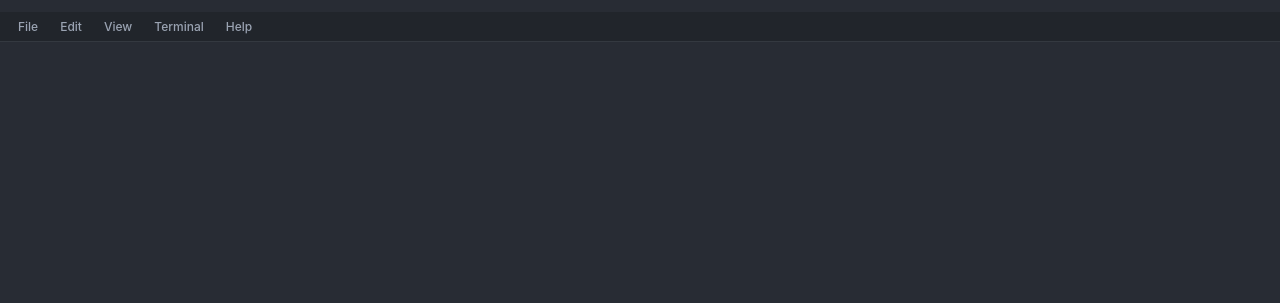
Test: MenuBar › clicking File title opens a dropdown
Click the menu item with class "menu-bar-title" showing "File" at (28, 26), box [8,14,48,40]
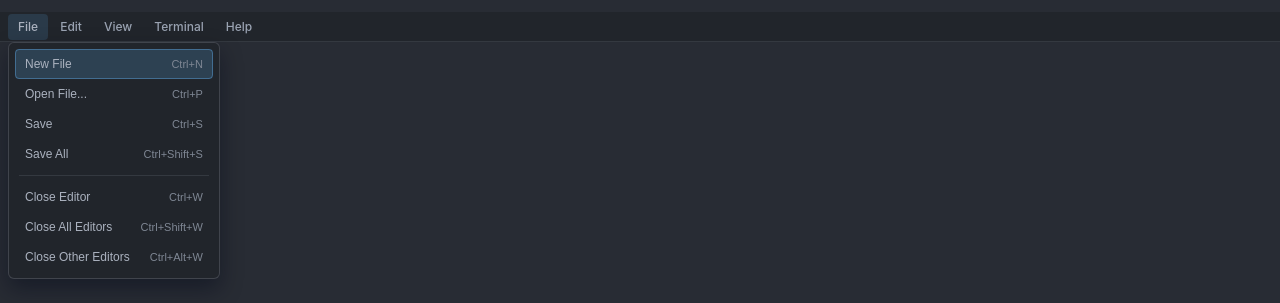
Expected: the menu with class "menu-bar-dropdown" is shown, [8,42,220,278]
